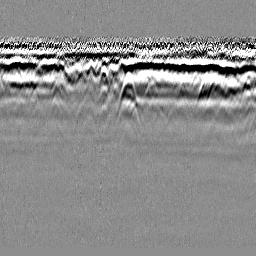cavity: (114, 71, 143, 129)
